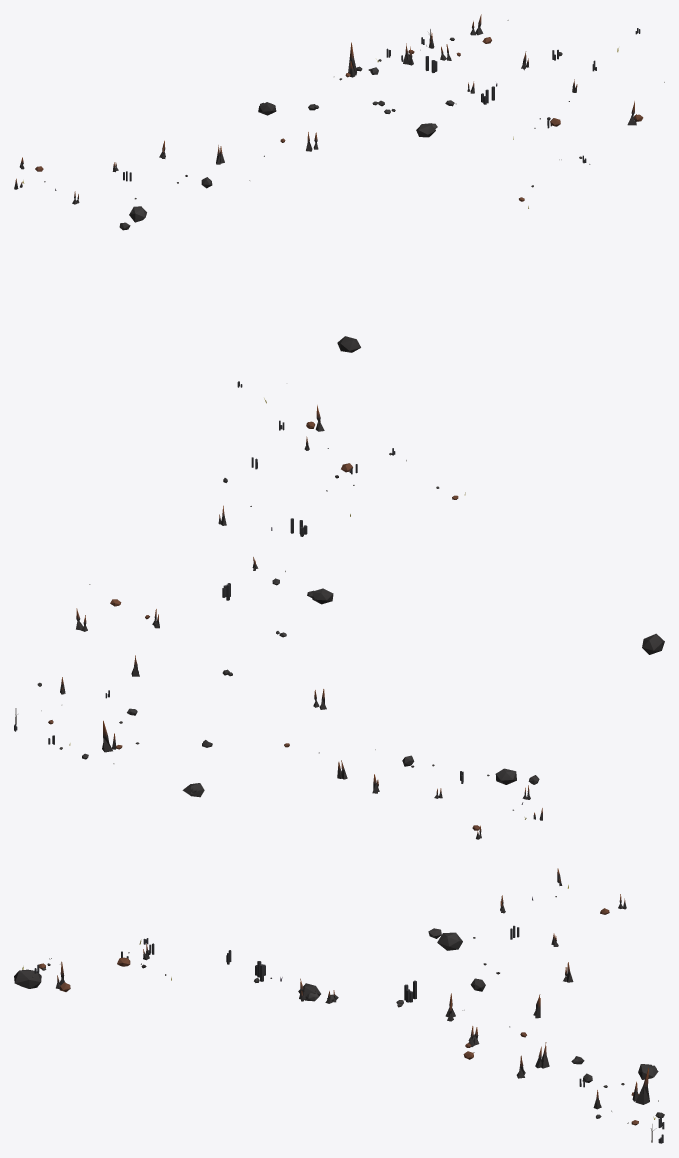
The model's file is ash_land_scatter_c20_28_lod1.glb.
3 views of the same model, one above another, from view 1: azimuth 30°, elevation 25°; view 2: azimuth 150°, elevation 25°; view 3: azimuth 270°, elevation 25° (orthographic). The views are drawn at different scales.
Visible parts, largest first — view 1: ash_land_scatter_c20_28_lod1; view 2: ash_land_scatter_c20_28_lod1; view 3: ash_land_scatter_c20_28_lod1.
Boxes of the visible parts, x1=… form: ash_land_scatter_c20_28_lod1: x1=14, y1=14, x2=664, y2=352; ash_land_scatter_c20_28_lod1: x1=14, y1=381, x2=664, y2=839; ash_land_scatter_c20_28_lod1: x1=14, y1=868, x2=664, y2=1143.
Bounding box in the file's own units: 257 × 110 × 260.
